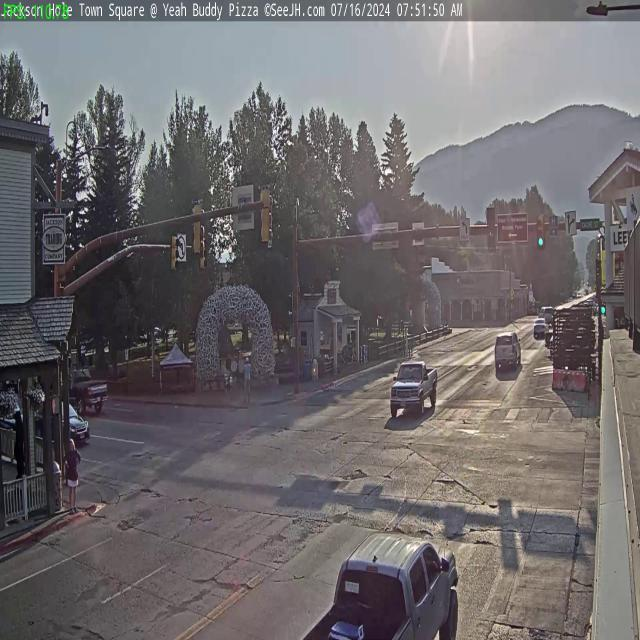person: (65, 435, 80, 511), (242, 352, 250, 404), (224, 356, 232, 396)
pickup: (288, 525, 462, 640), (388, 357, 444, 416), (60, 368, 108, 416)
suv: (54, 396, 90, 444), (494, 331, 522, 372), (532, 318, 548, 338)
traffic light: (190, 199, 203, 256), (260, 185, 272, 245), (486, 207, 497, 252), (536, 215, 546, 248), (171, 234, 178, 276)
